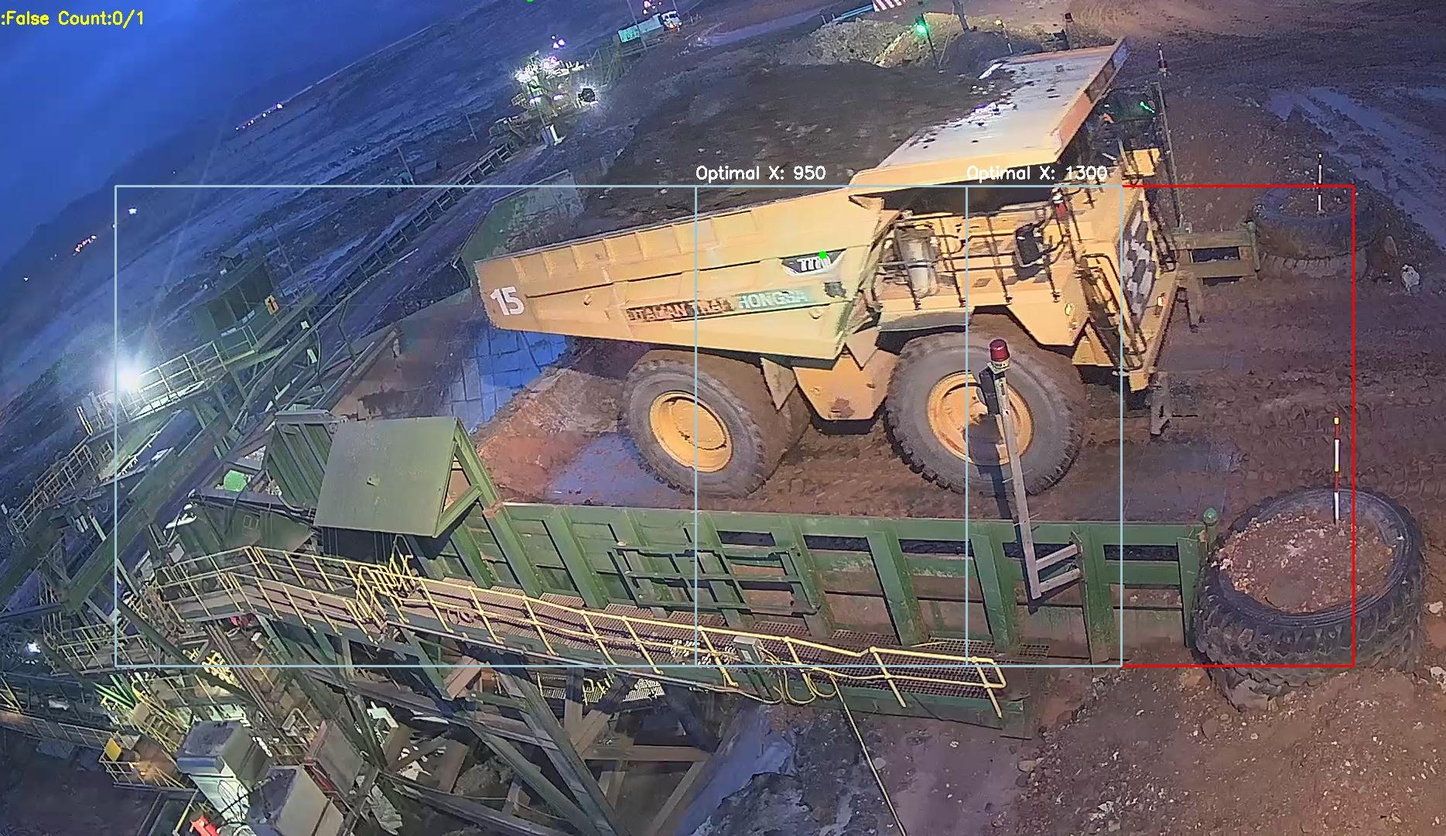company: (618, 279, 831, 330)
full_load: (556, 56, 925, 230)
mining_truck: (469, 34, 1207, 490)
tail_number: (486, 280, 531, 324)
truck_size: (791, 243, 834, 282)
